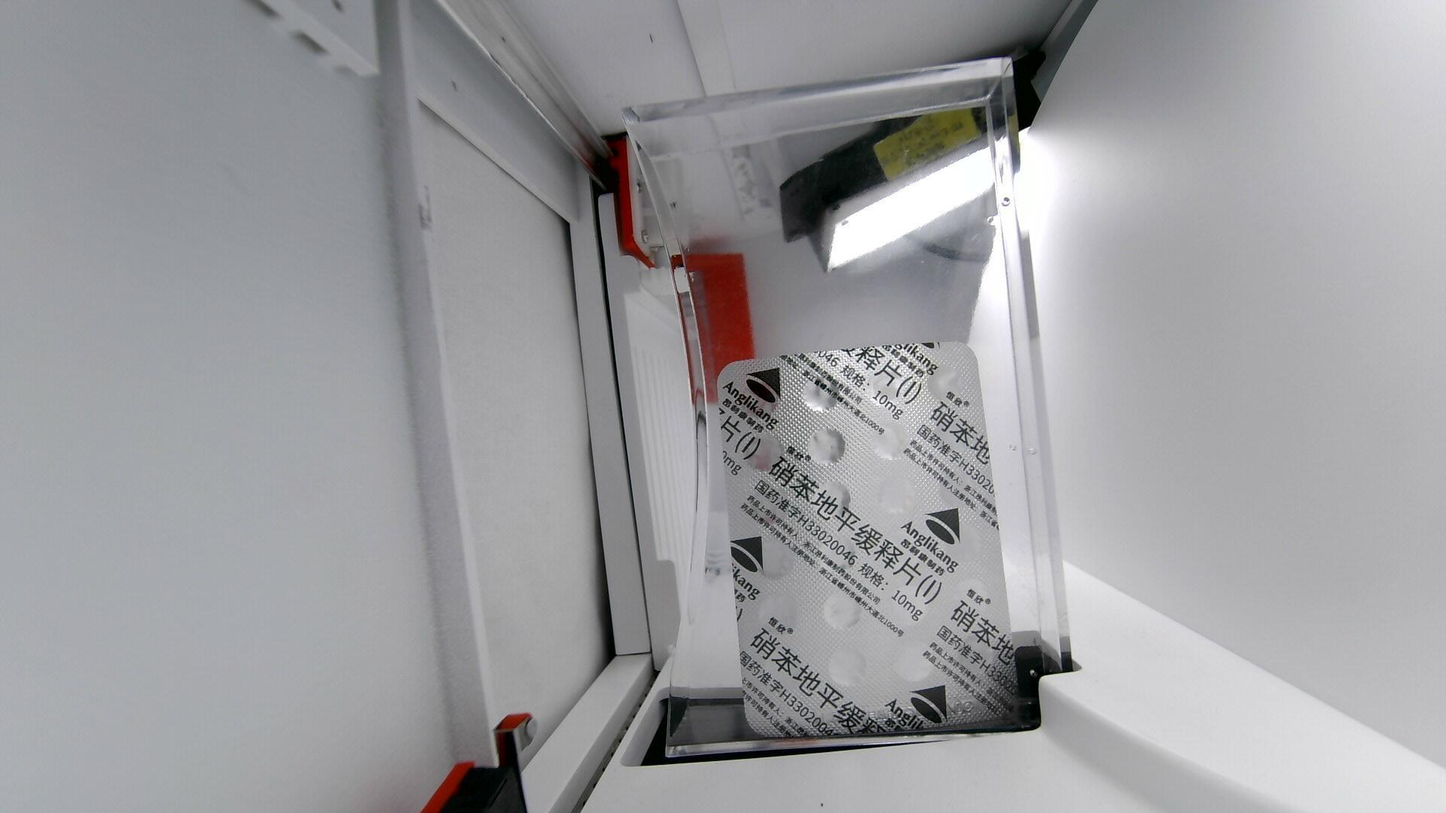Pill Back: (935, 521, 990, 571), (944, 630, 999, 679), (753, 584, 801, 639), (864, 361, 917, 410), (752, 648, 803, 697), (730, 377, 781, 421), (740, 481, 792, 523), (925, 360, 972, 405), (935, 469, 987, 509), (944, 580, 992, 623), (872, 421, 926, 458), (825, 583, 865, 632), (747, 534, 795, 574), (808, 476, 852, 519), (885, 532, 928, 574), (880, 586, 923, 628), (806, 426, 850, 467), (944, 419, 986, 461), (819, 644, 869, 678), (798, 377, 846, 412), (874, 476, 914, 515), (823, 526, 860, 568), (887, 637, 923, 676), (747, 434, 785, 470)
